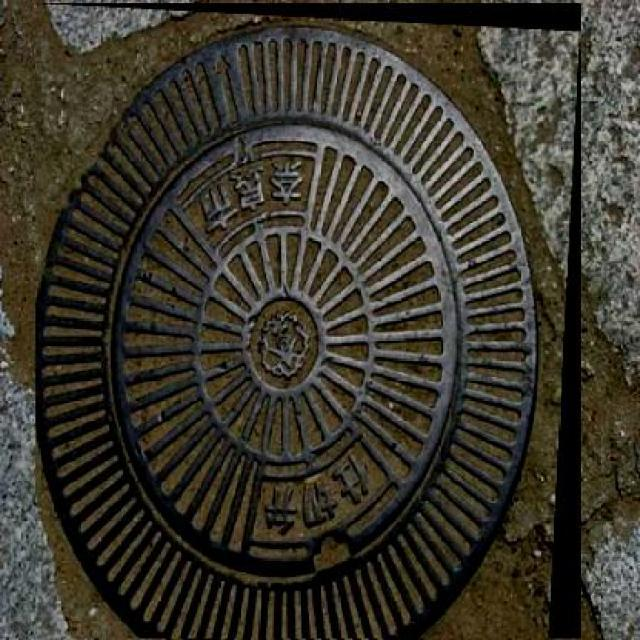Manhole: (35, 3, 580, 639)
